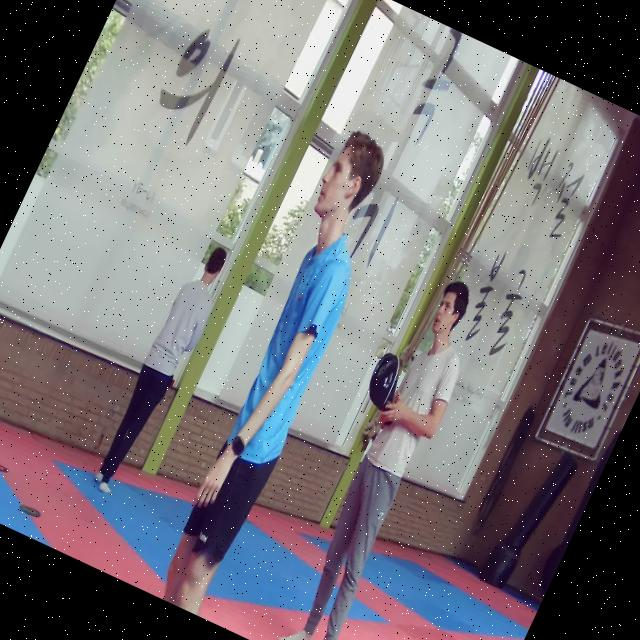paddle: (369, 353, 400, 424)
